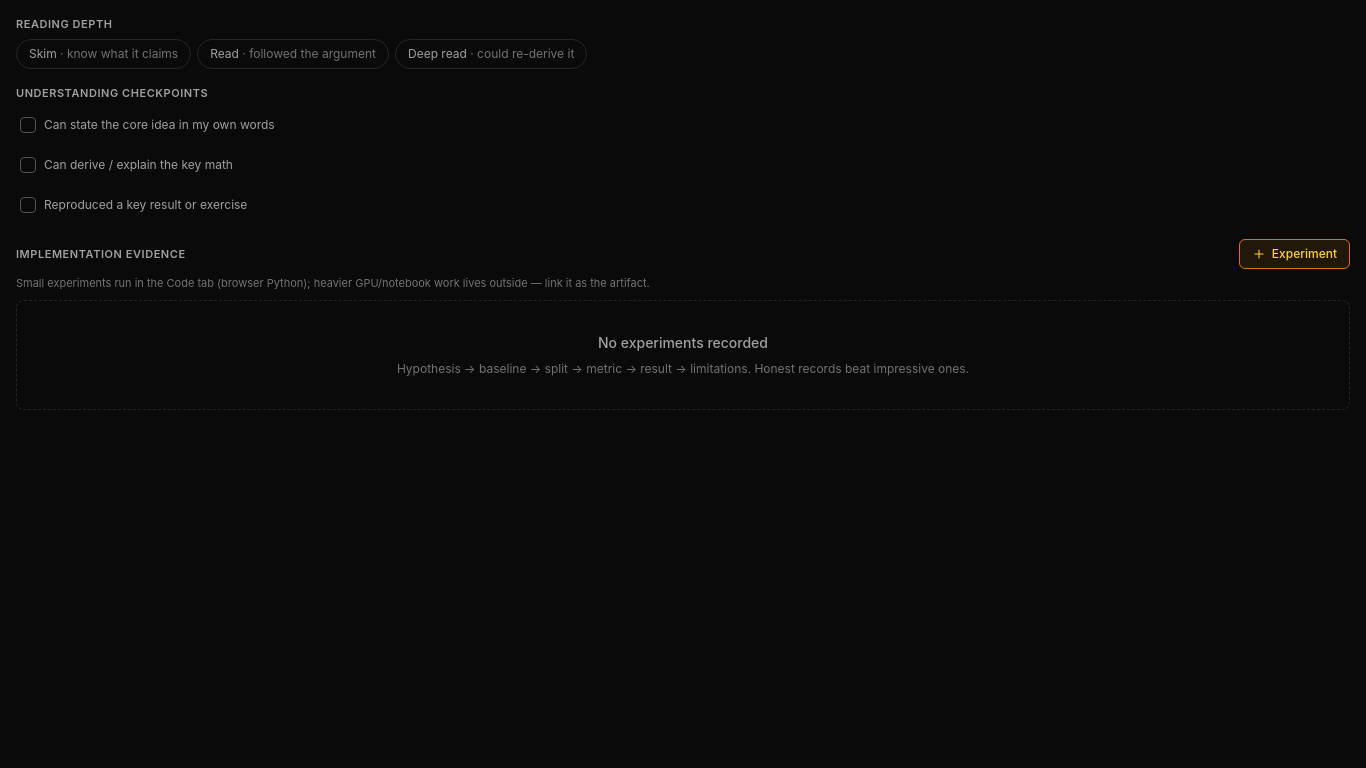
Test case: EvidencePane — unfinished drafts survive unmount (regression) › submit turns the draft into a record and clears the draft store
Click the button "Experiment".
click(1294, 254)  # box [1239,239,1350,269]
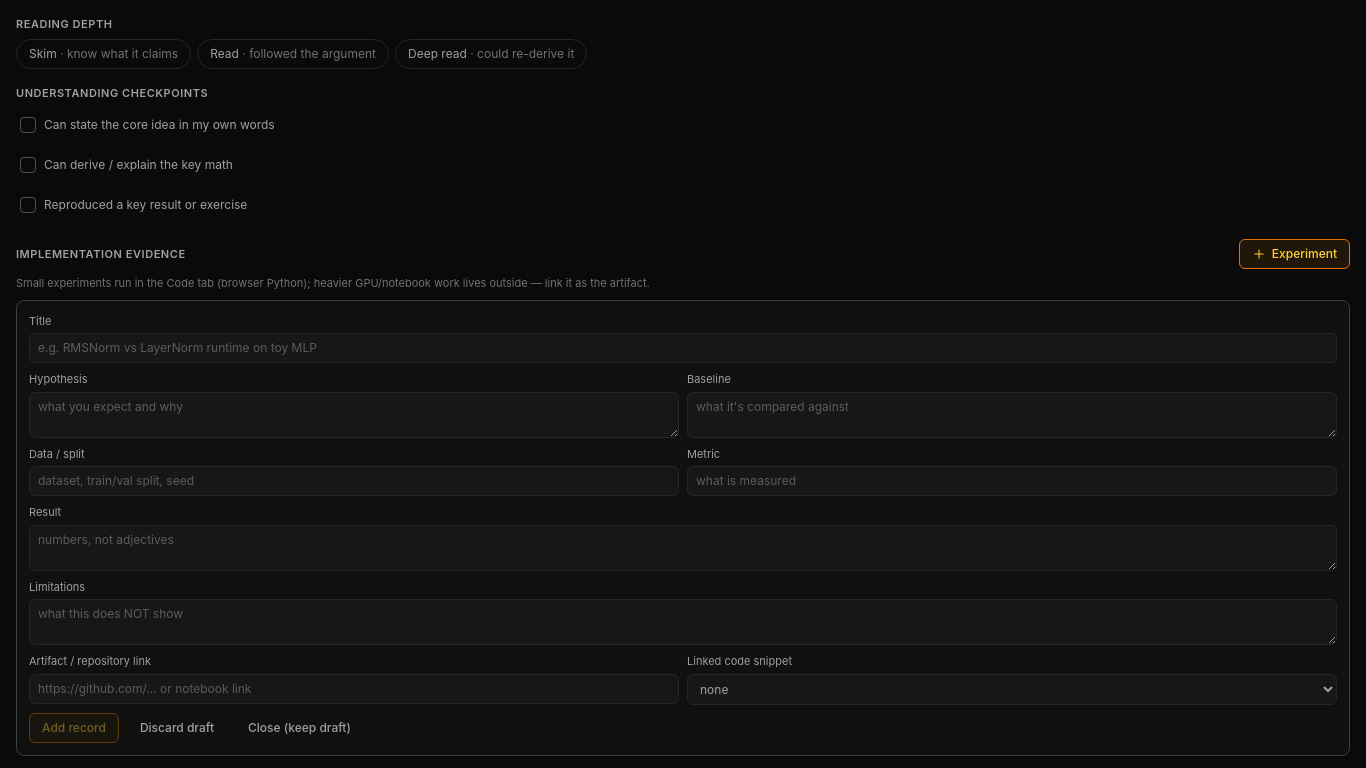
Type "adamw vs muon on toy mlp" into the field labelled "Title".
click(683, 348); type("adamw vs muon on toy mlp")  # box [29,333,1337,363]
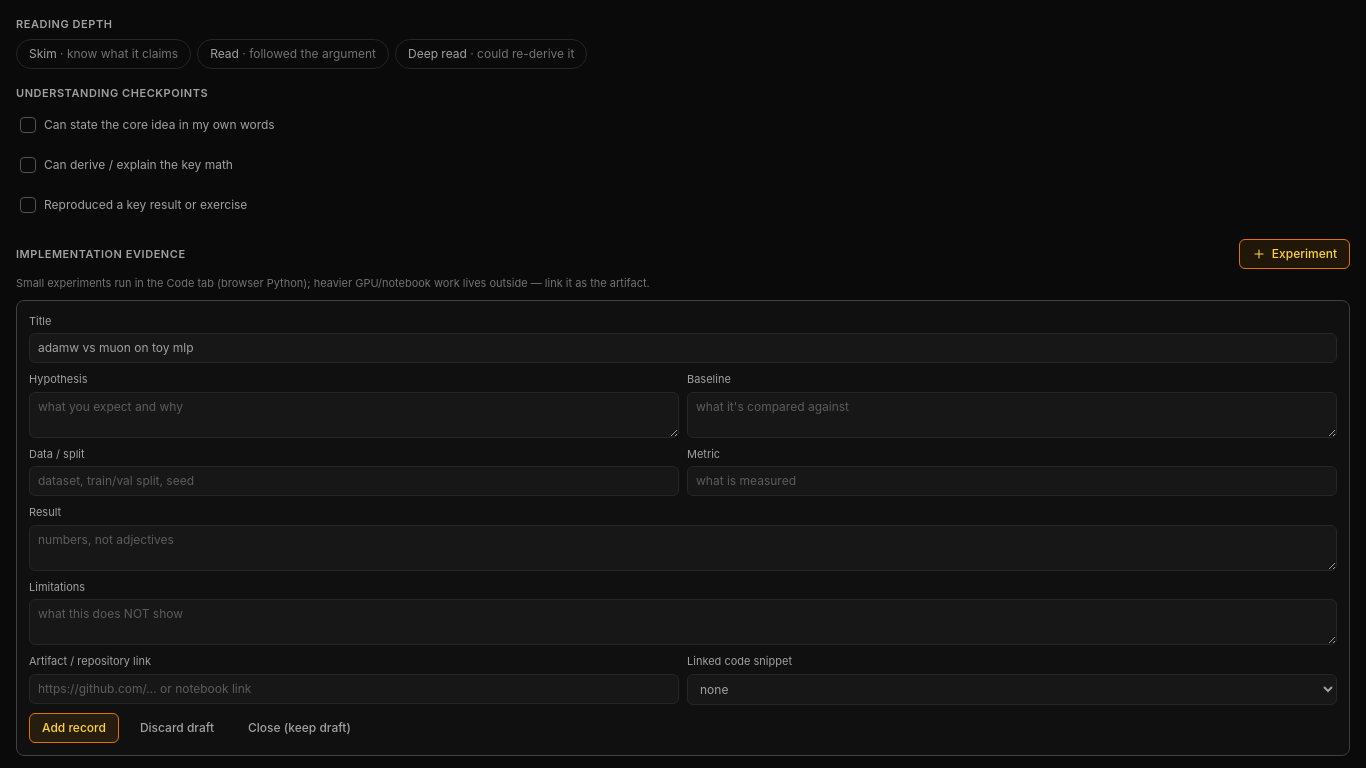
Type "orthogonalized updates help" into the text box labelled "Hypothesis".
click(354, 414); type("orthogonalized updates help")  # box [29,392,679,438]
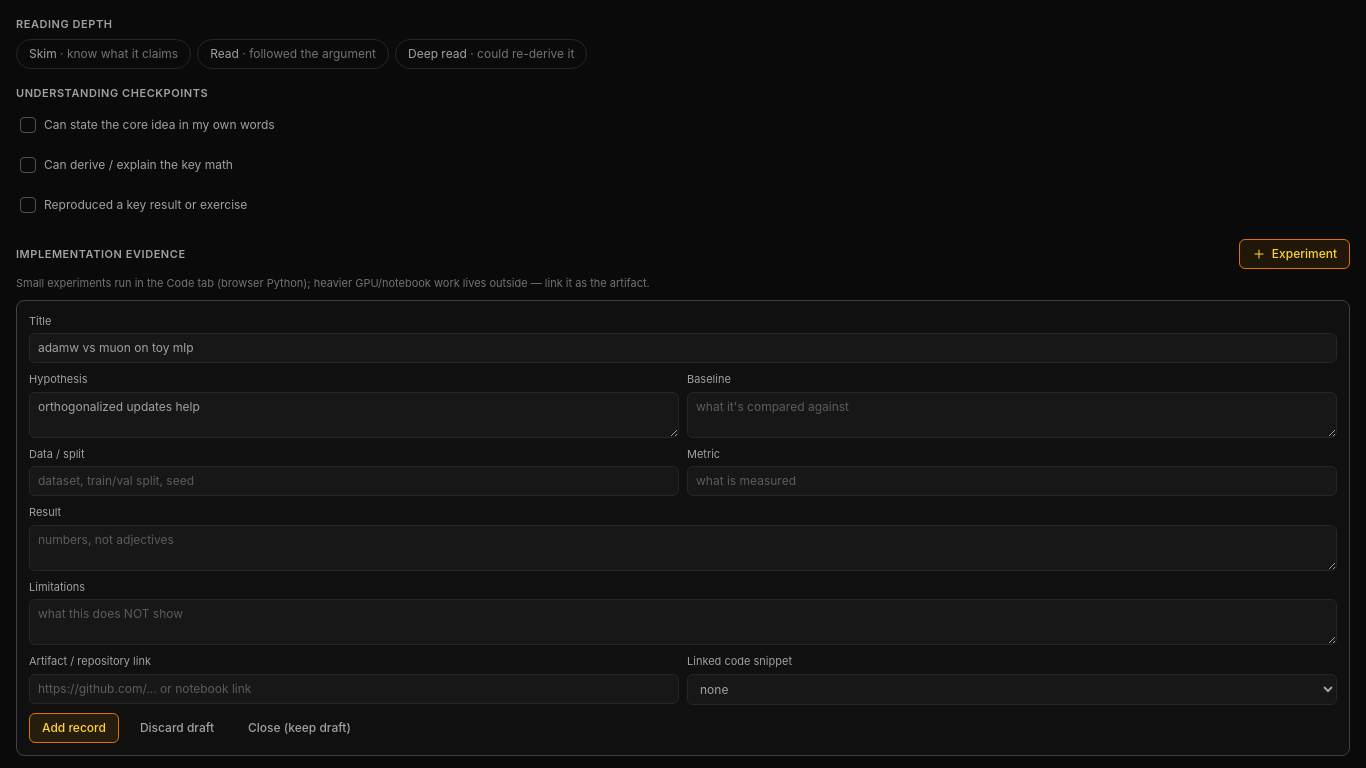
Click the button "Add record".
click(74, 728)  # box [29,712,119,742]
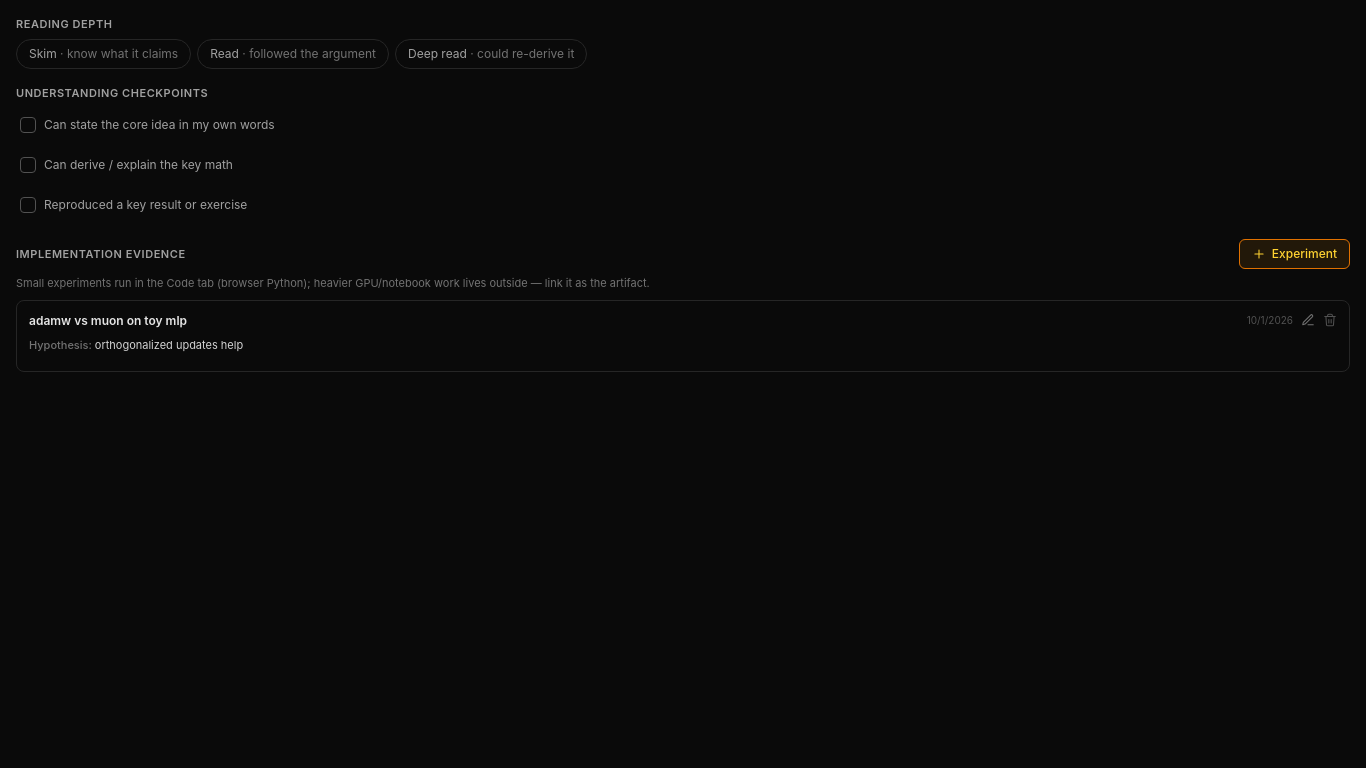
Expected: the text "adamw vs muon on toy mlp" is shown, [29,312,187,328]
